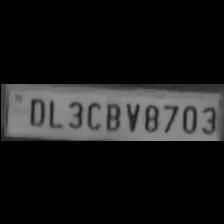0: (178, 102, 198, 132)
3: (198, 102, 218, 134), (64, 97, 82, 129)
7: (160, 101, 178, 133)
8: (138, 100, 160, 132)
B: (101, 99, 121, 131)
C: (82, 98, 102, 130)
D: (25, 94, 45, 126)
L: (44, 94, 61, 128)
V: (122, 98, 140, 132)
